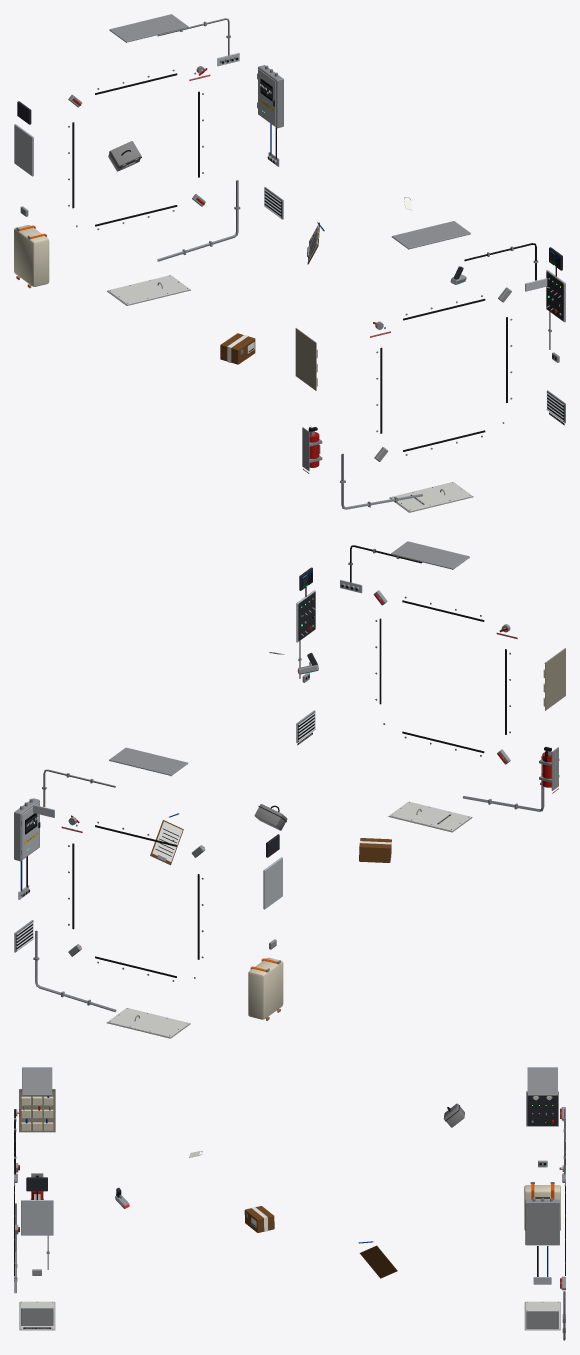
File: Ambientacion_Rivera.fbx
3 views of the same model, one above another, from view 1: azimuth 30°, elevation 25°; view 2: azimuth 150°, elevation 25°; view 3: azimuth 270°, elevation 25° (orthographic). The views are drawn at different scales.
Parts seen in each view (by area): view 1: R_Det_Ambientacion, R_Bulto_1, R_Flot_Paquete_2, R_Flot_Caja_4; view 2: R_Det_Ambientacion, R_Bulto_1, R_Flot_Portapapeles_3, R_Flot_Paquete_2; view 3: R_Det_Ambientacion, R_Bulto_1, R_Flot_Paquete_2, R_Flot_Portapapeles_3.
Boxes of the visible parts, x1,y1,x2,y2 form: R_Det_Ambientacion: (14,14,565,512); R_Bulto_1: (14,225,49,288); R_Flot_Paquete_2: (220,333,255,364); R_Flot_Caja_4: (108,141,141,171); R_Det_Ambientacion: (14,541,565,1038); R_Bulto_1: (248,957,283,1020); R_Flot_Portapapeles_3: (150,820,183,865); R_Flot_Paquete_2: (359,838,391,862); R_Det_Ambientacion: (14,1067,565,1340); R_Bulto_1: (524,1182,560,1230); R_Flot_Paquete_2: (244,1206,274,1232); R_Flot_Portapapeles_3: (359,1245,397,1278).
Size of the model in its own units: 2.4 by 2.4 by 5.1.
